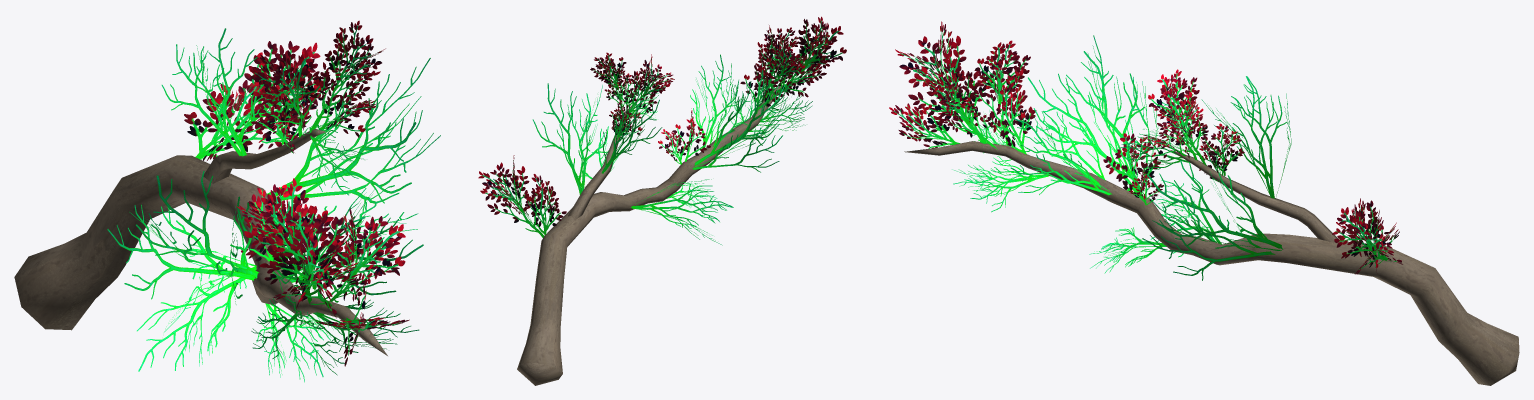
Rendered from SM_Tree_Bent_02.fbx.
3 renders of one model, left to right at view 1: azimuth 30°, elevation 25°; view 2: azimuth 150°, elevation 25°; view 3: azimuth 270°, elevation 25°, orthographic. The views are drawn at different scales.
Parts seen in each view (by area): view 1: SM_Tree_Bent_02_LOD0; view 2: SM_Tree_Bent_02_LOD0; view 3: SM_Tree_Bent_02_LOD0.
Boxes of the visible parts, x1,y1,x2,y2 form: SM_Tree_Bent_02_LOD0: [14, 20, 440, 382]; SM_Tree_Bent_02_LOD0: [478, 16, 846, 385]; SM_Tree_Bent_02_LOD0: [889, 21, 1519, 385].
Size of the model in its own units: 552 by 581 by 1044.
